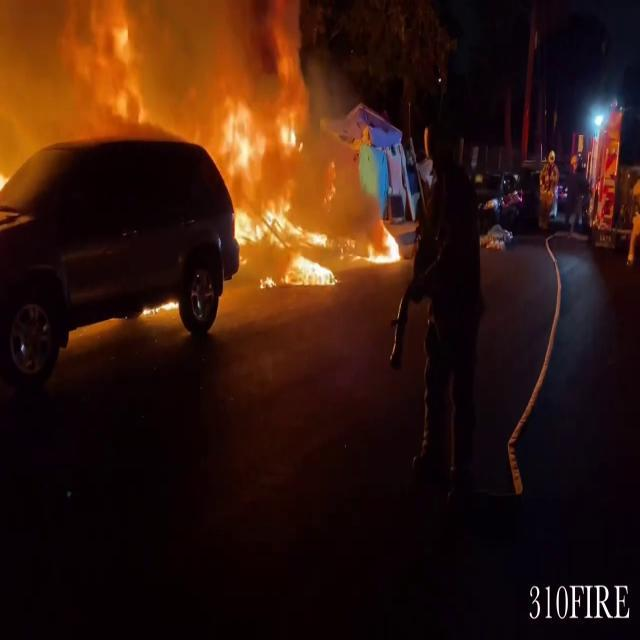Fire: (220, 88, 342, 310), (366, 220, 404, 270)
Smoke: (0, 0, 340, 139)
